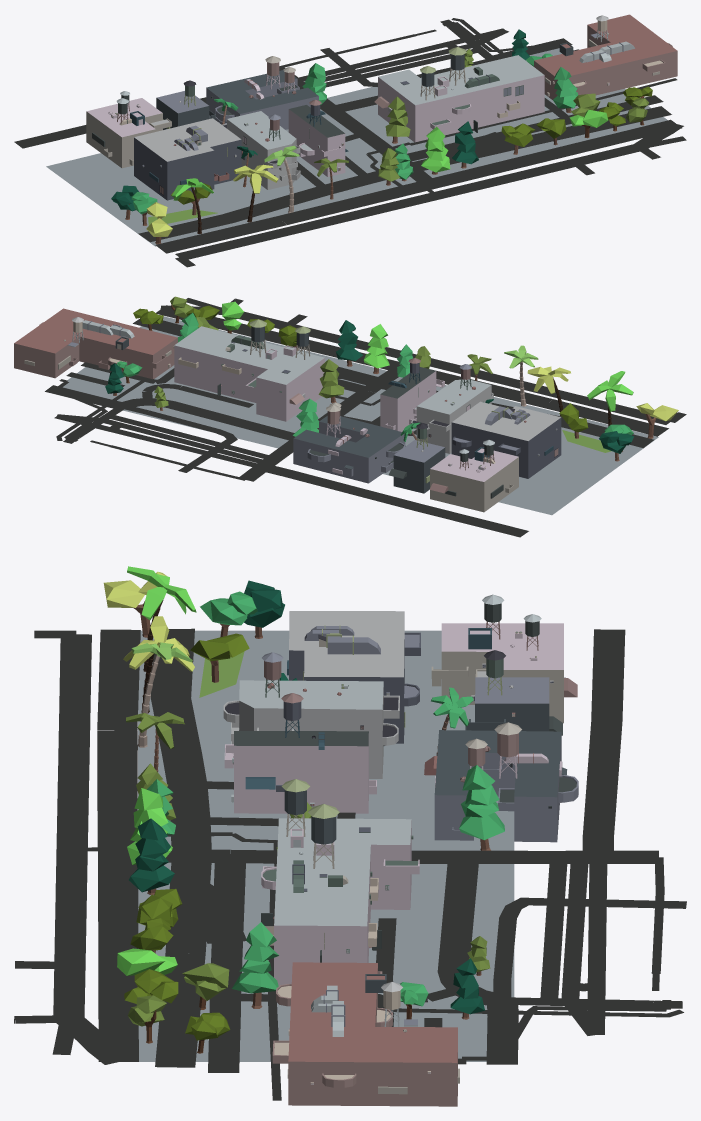
Rendered from SJ_Env3.fbx.
The picture shows the model from 3 angles, top to bottom: view 1: azimuth 30°, elevation 25°; view 2: azimuth 150°, elevation 25°; view 3: azimuth 270°, elevation 25°; orthographic projection. The views are drawn at different scales.
Parts seen in each view (by area): view 1: SJ_Env3; view 2: SJ_Env3; view 3: SJ_Env3.
Boxes of the visible parts, bbox=[...] form: SJ_Env3: bbox=[14, 14, 686, 267]; SJ_Env3: bbox=[14, 296, 686, 537]; SJ_Env3: bbox=[14, 566, 686, 1106].
Size of the model in its own units: 9103 by 1295 by 5277.
